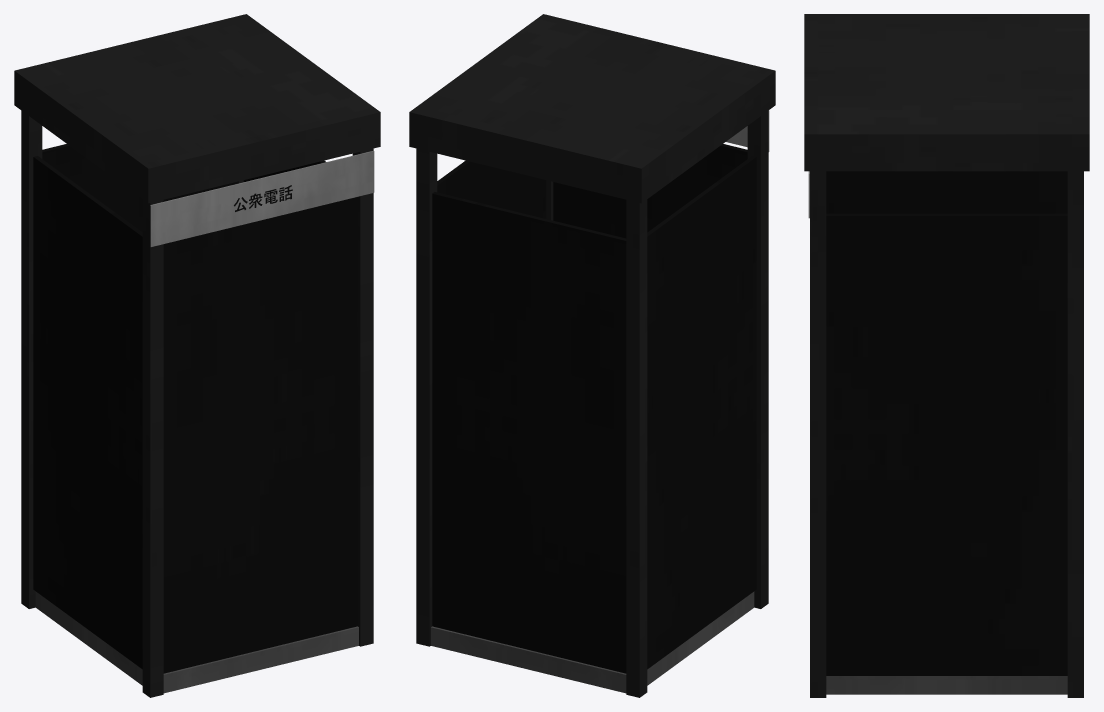
The model's file is phone_booth.glb.
The picture shows the model from 3 angles, left to right: view 1: azimuth 30°, elevation 25°; view 2: azimuth 150°, elevation 25°; view 3: azimuth 270°, elevation 25°; orthographic projection. The views are drawn at different scales.
Visible parts, largest first — view 1: phone_booth; view 2: phone_booth; view 3: phone_booth.
Boxes of the visible parts, box(x1,y1,x2,y2) form: phone_booth: box(14, 14, 380, 697); phone_booth: box(409, 14, 775, 697); phone_booth: box(804, 14, 1089, 697).
Bounding box in the file's own units: 1.05 × 2.3 × 1.05.
6 materials, 6 textured.
